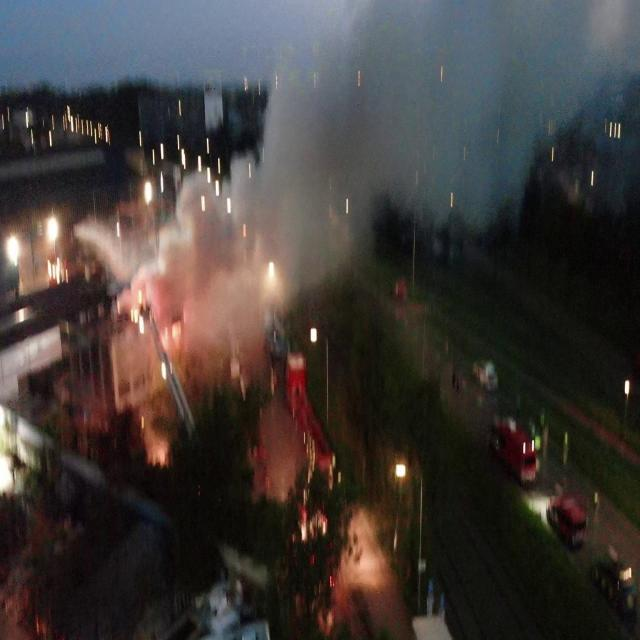Fire: (172, 322, 182, 338), (139, 316, 144, 334), (130, 308, 134, 322), (138, 289, 142, 303), (134, 309, 138, 323)
Smoke: (109, 0, 640, 401)
